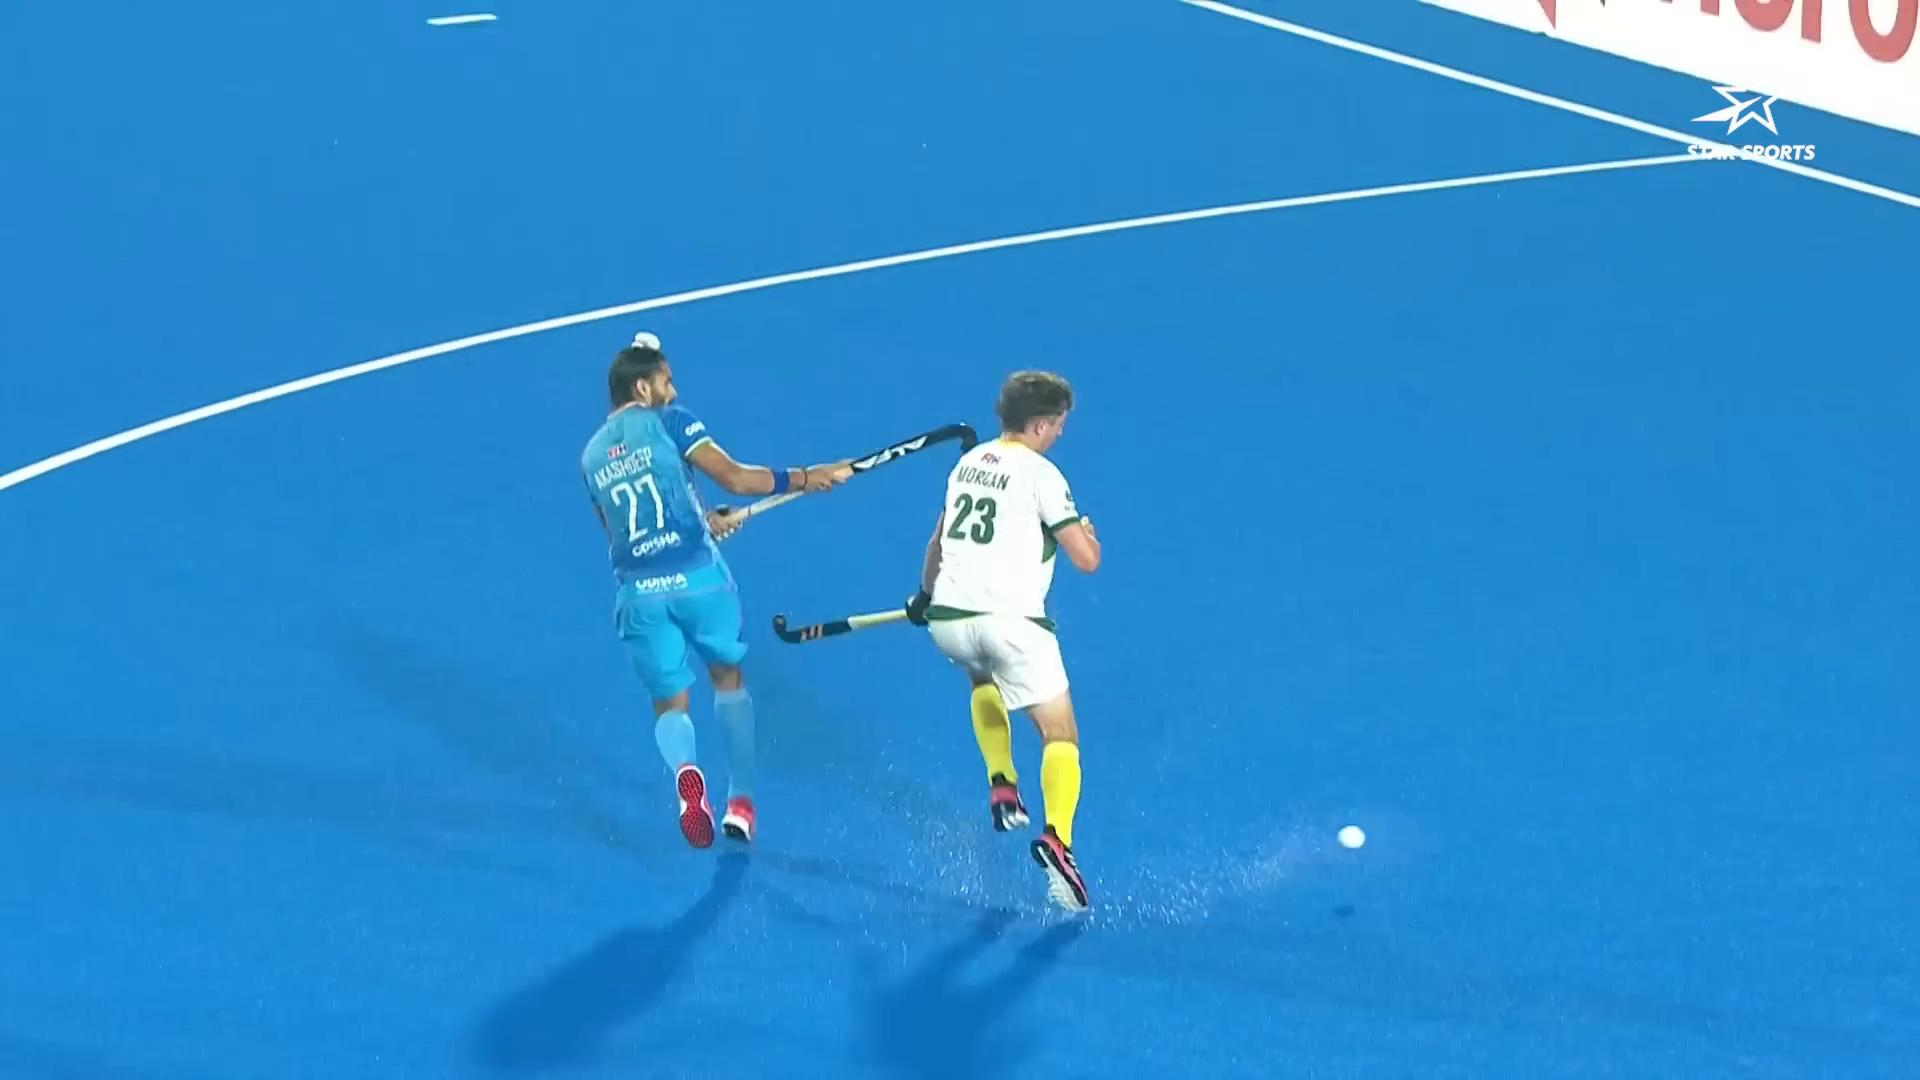ball: (1336, 804, 1393, 885)
